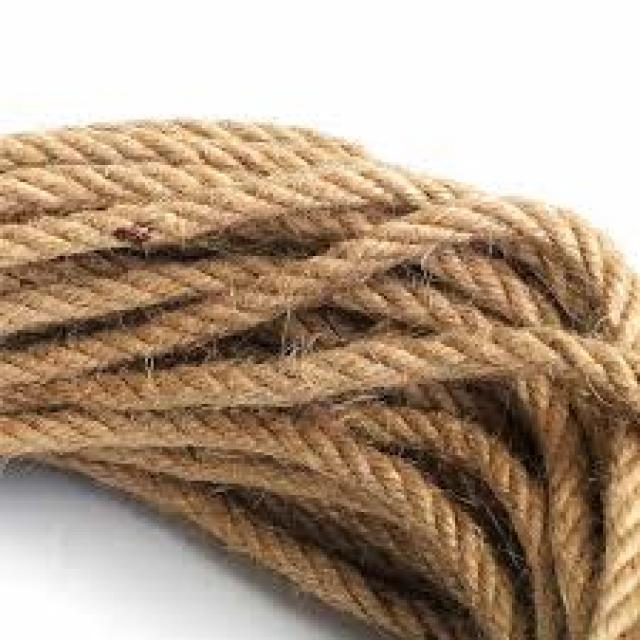rope: (0, 117, 640, 640)
